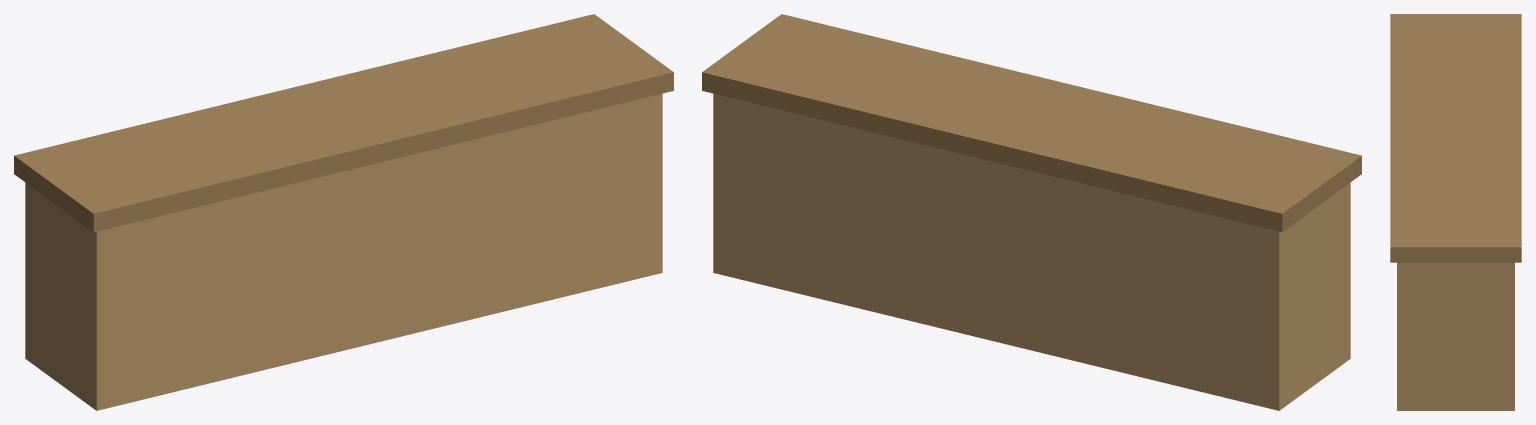
The model's file is beam.glb.
The picture shows the model from 3 angles, left to right: view 1: azimuth 30°, elevation 25°; view 2: azimuth 150°, elevation 25°; view 3: azimuth 270°, elevation 25°; orthographic projection. The views are drawn at different scales.
Visible parts, largest first — view 1: Beam, BeamTop; view 2: Beam, BeamTop; view 3: BeamTop, Beam.
Boxes of the visible parts, bbox=[...] form: Beam: bbox=[25, 93, 662, 410]; BeamTop: bbox=[14, 14, 673, 232]; Beam: bbox=[713, 93, 1350, 410]; BeamTop: bbox=[702, 14, 1361, 232]; BeamTop: bbox=[1390, 14, 1521, 262]; Beam: bbox=[1397, 262, 1514, 410].
Bounding box in the file's own units: 1.64 × 0.545 × 0.39.
